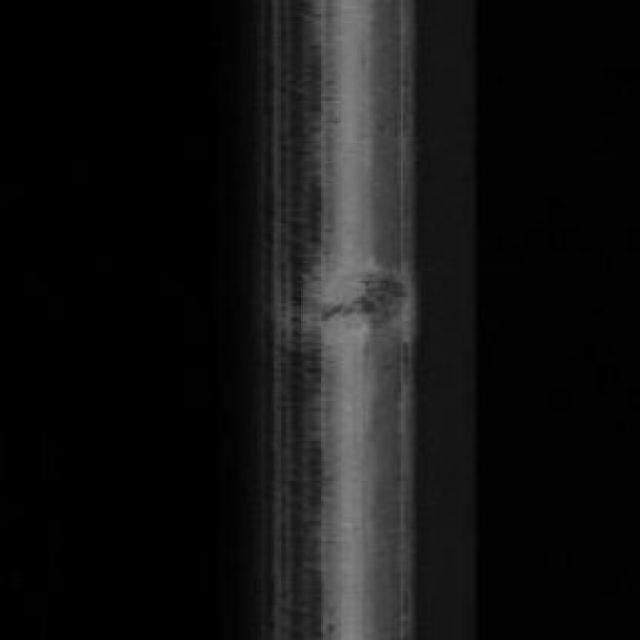defective: (291, 225, 434, 400)
